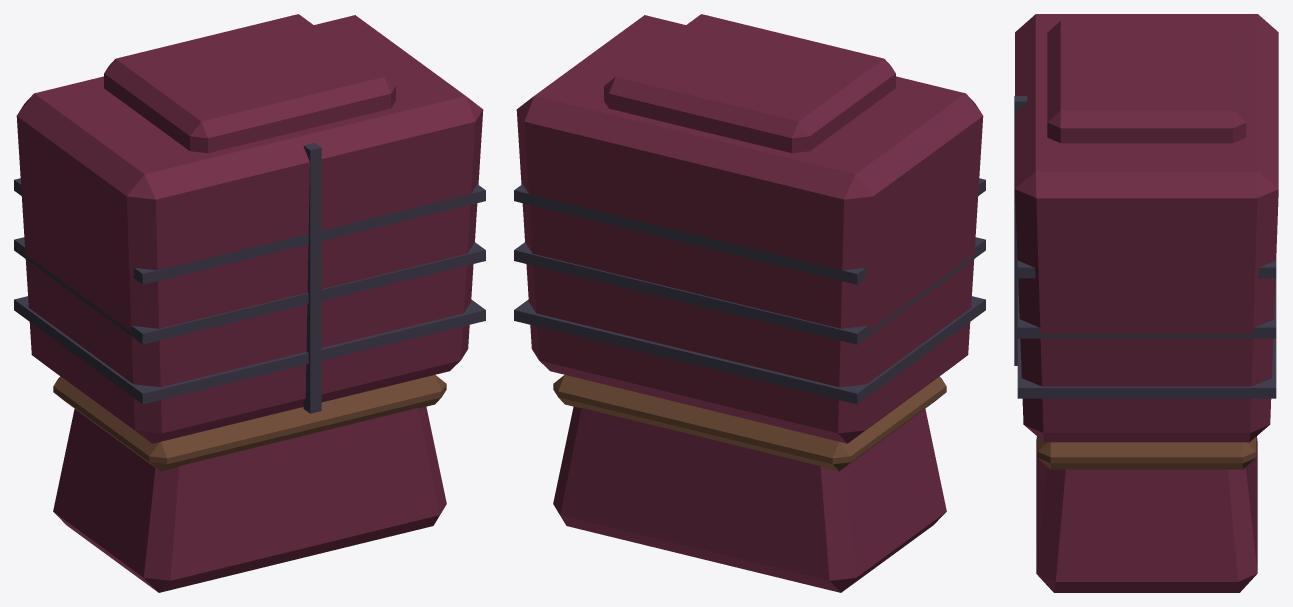
File: QuiltedArmor.fbx
3 views of the same model, side by side, from view 1: azimuth 30°, elevation 25°; view 2: azimuth 150°, elevation 25°; view 3: azimuth 270°, elevation 25° (orthographic).
Parts seen in each view (by area): view 1: QuiltedArmor__chest, QuiltedArmor__hips; view 2: QuiltedArmor__chest, QuiltedArmor__hips; view 3: QuiltedArmor__chest, QuiltedArmor__hips.
Boxes of the visible parts, <box> form: QuiltedArmor__chest: <box>14,14,485,443</box>; QuiltedArmor__hips: <box>53,375,446,592</box>; QuiltedArmor__chest: <box>514,14,985,443</box>; QuiltedArmor__hips: <box>553,375,946,592</box>; QuiltedArmor__chest: <box>1014,14,1278,442</box>; QuiltedArmor__hips: <box>1036,436,1257,592</box>.
Bounding box in the file's own units: 0.6234 × 0.765 × 0.3988.
